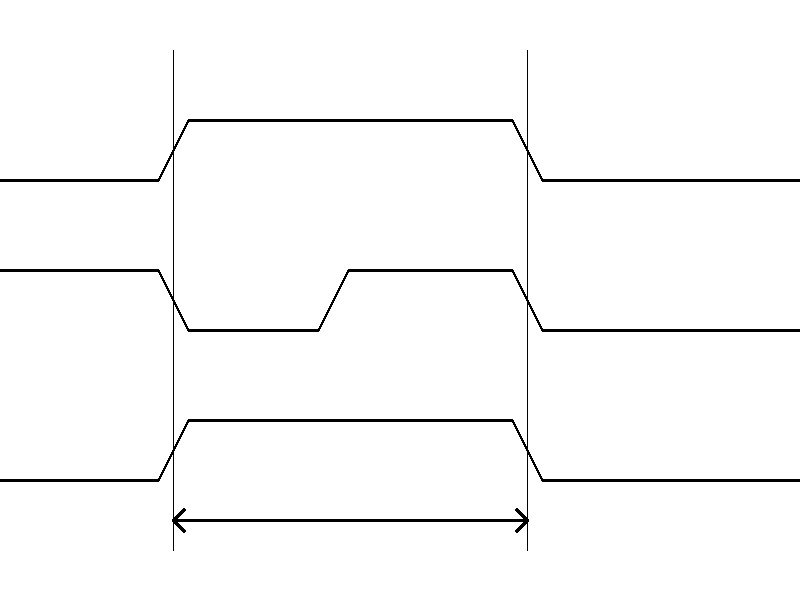double_arrow: (173, 505, 527, 535)
